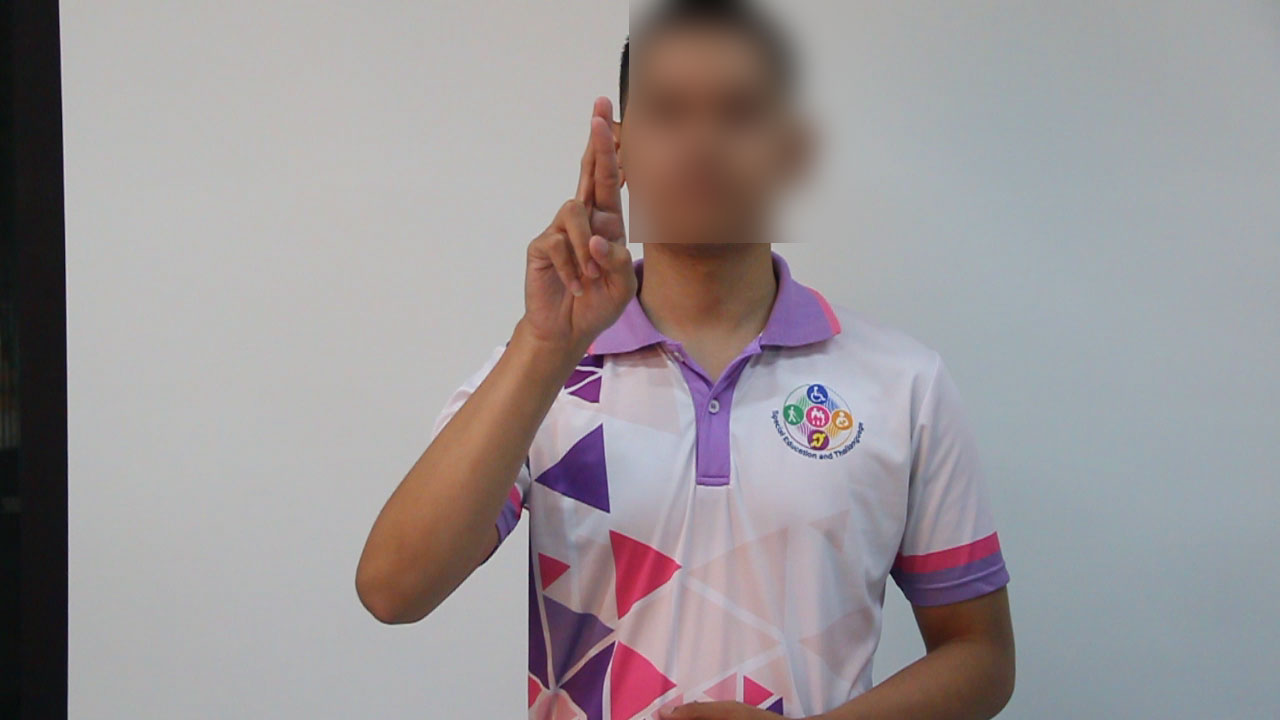rao: (509, 93, 653, 376)
